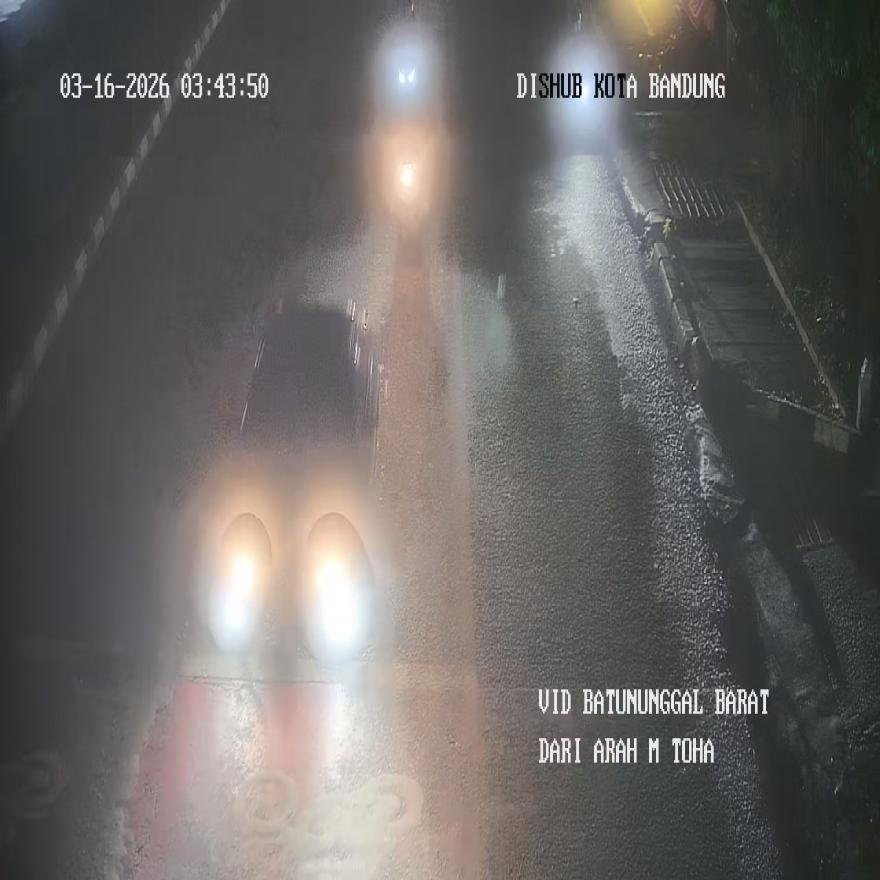Motor: (224, 310, 386, 644)
Truk: (380, 154, 433, 234), (384, 51, 426, 103)
